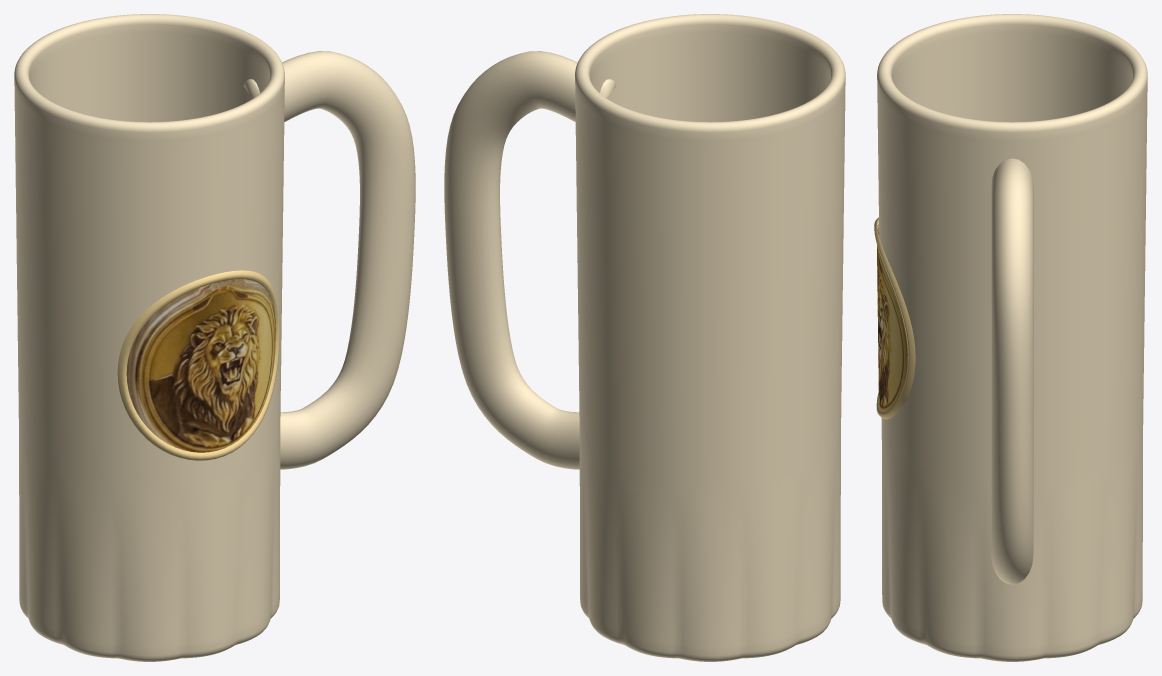
File: lion.glb
3 views of the same model, side by side, from view 1: azimuth 30°, elevation 25°; view 2: azimuth 150°, elevation 25°; view 3: azimuth 270°, elevation 25° (orthographic).
Parts seen in each view (by area): view 1: lion_Glass, lion_Handle, lion_Medallion, lion_Bezel; view 2: lion_Glass, lion_Handle; view 3: lion_Glass, lion_Handle, lion_Medallion, lion_Bezel.
Part boxes in pixels (x1,y1,x2,y2): lion_Glass: [14, 14, 284, 661]; lion_Handle: [243, 51, 415, 469]; lion_Medallion: [126, 279, 275, 452]; lion_Bezel: [117, 270, 279, 460]; lion_Glass: [575, 14, 845, 661]; lion_Handle: [444, 51, 616, 469]; lion_Glass: [877, 14, 1147, 661]; lion_Handle: [991, 158, 1033, 584]; lion_Medallion: [877, 224, 907, 410]; lion_Bezel: [874, 217, 915, 419].
Bounding box in the file's own units: 0.1252 × 0.17 × 0.0778.
Materials: 3 (1 with a texture image).
